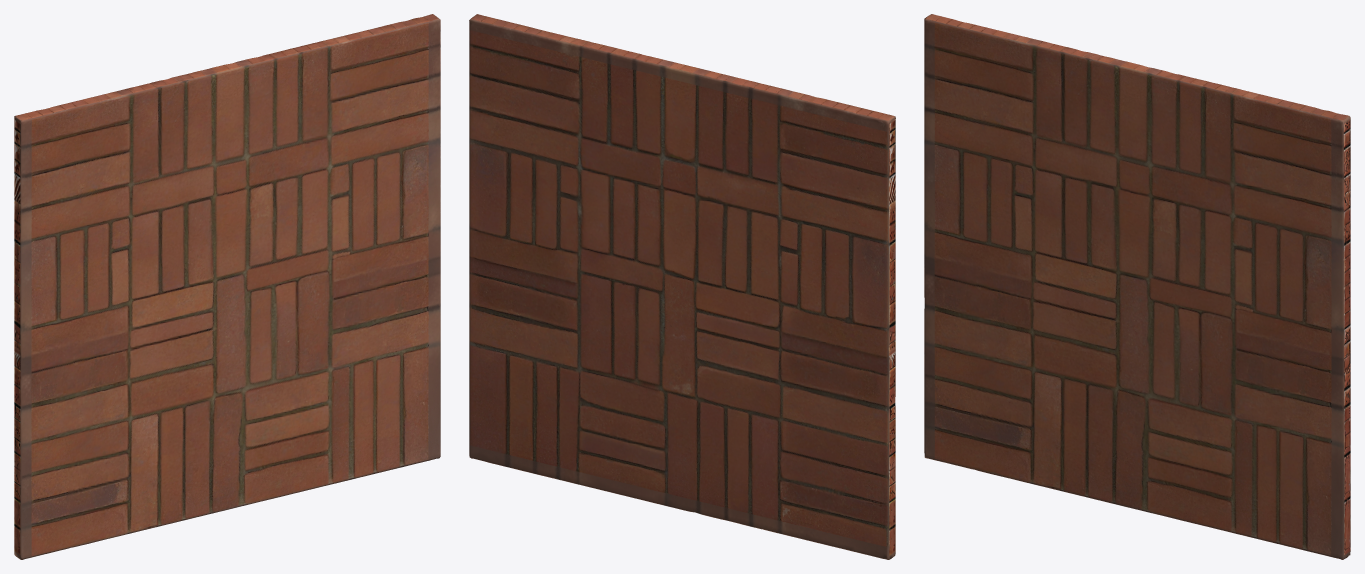
The model's file is Meshy_AI_Brick_Pattern_Tiles_0221024514_texture.glb.
3 views of the same model, side by side, from view 1: azimuth 30°, elevation 25°; view 2: azimuth 150°, elevation 25°; view 3: azimuth 330°, elevation 25° (orthographic).
Bounding box in the file's own units: 2 × 2 × 0.0623.
Materials: 1 (1 with a texture image).
